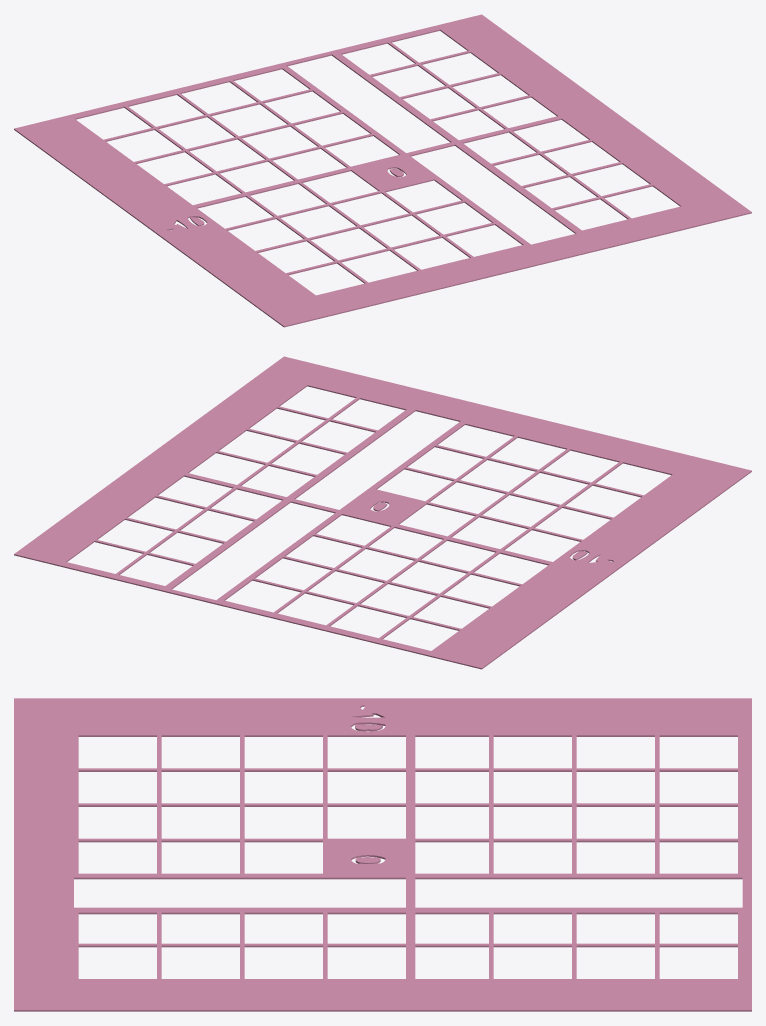
The picture shows the model from 3 angles, top to bottom: view 1: azimuth 30°, elevation 25°; view 2: azimuth 150°, elevation 25°; view 3: azimuth 270°, elevation 25°; orthographic projection. The views are drawn at different scales.
Visible parts, largest first — view 1: Mesh_Mesh_head_geo.001_lambert2SG.001; view 2: Mesh_Mesh_head_geo.001_lambert2SG.001; view 3: Mesh_Mesh_head_geo.001_lambert2SG.001.
Boxes of the visible parts, <box> form: Mesh_Mesh_head_geo.001_lambert2SG.001: <box>14,14,751,327</box>; Mesh_Mesh_head_geo.001_lambert2SG.001: <box>14,356,751,669</box>; Mesh_Mesh_head_geo.001_lambert2SG.001: <box>14,698,751,1011</box>.
Bounding box in the file's own units: 4 × 0.01 × 4.
